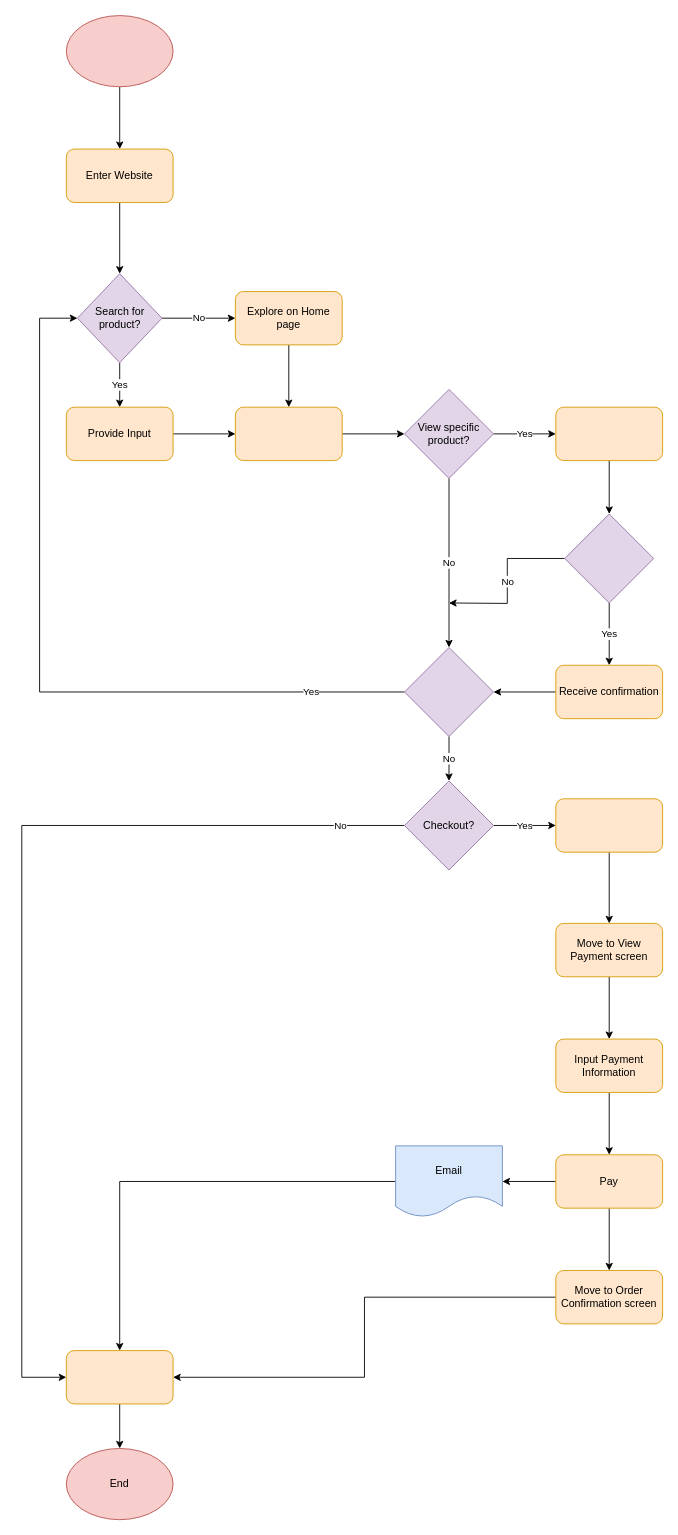
The diagram is 678 pixels wide and 1535 high, and some of its shapes have lost their labels. The shapes that lost their labels are listed below. From the top down, each one's centre as x and y in pixels, then its label:
At [119,51]: "Start".
At [288,433]: "Begin looking over products".
At [609,433]: "Open and look at product's webpage".
At [609,558]: "Add to cart?".
At [449,691]: "Continue shopping?".
At [609,825]: "View Cart".
At [119,1377]: "Leave website".
